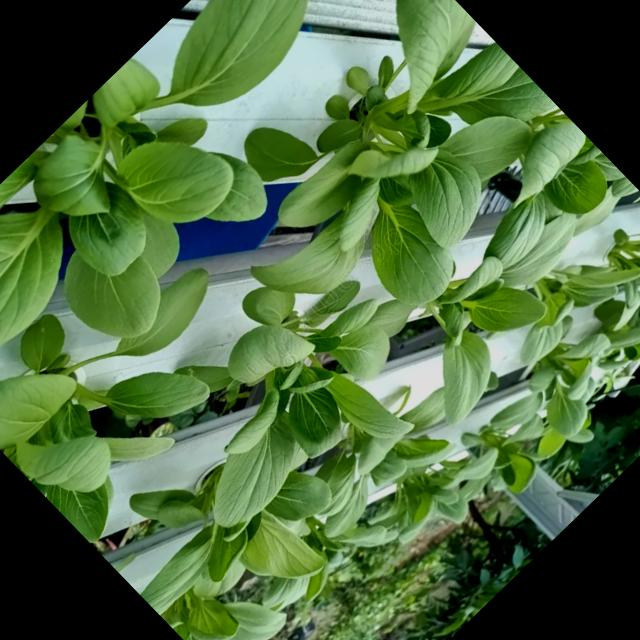pakcoy_sehat: (247, 1, 565, 318)
